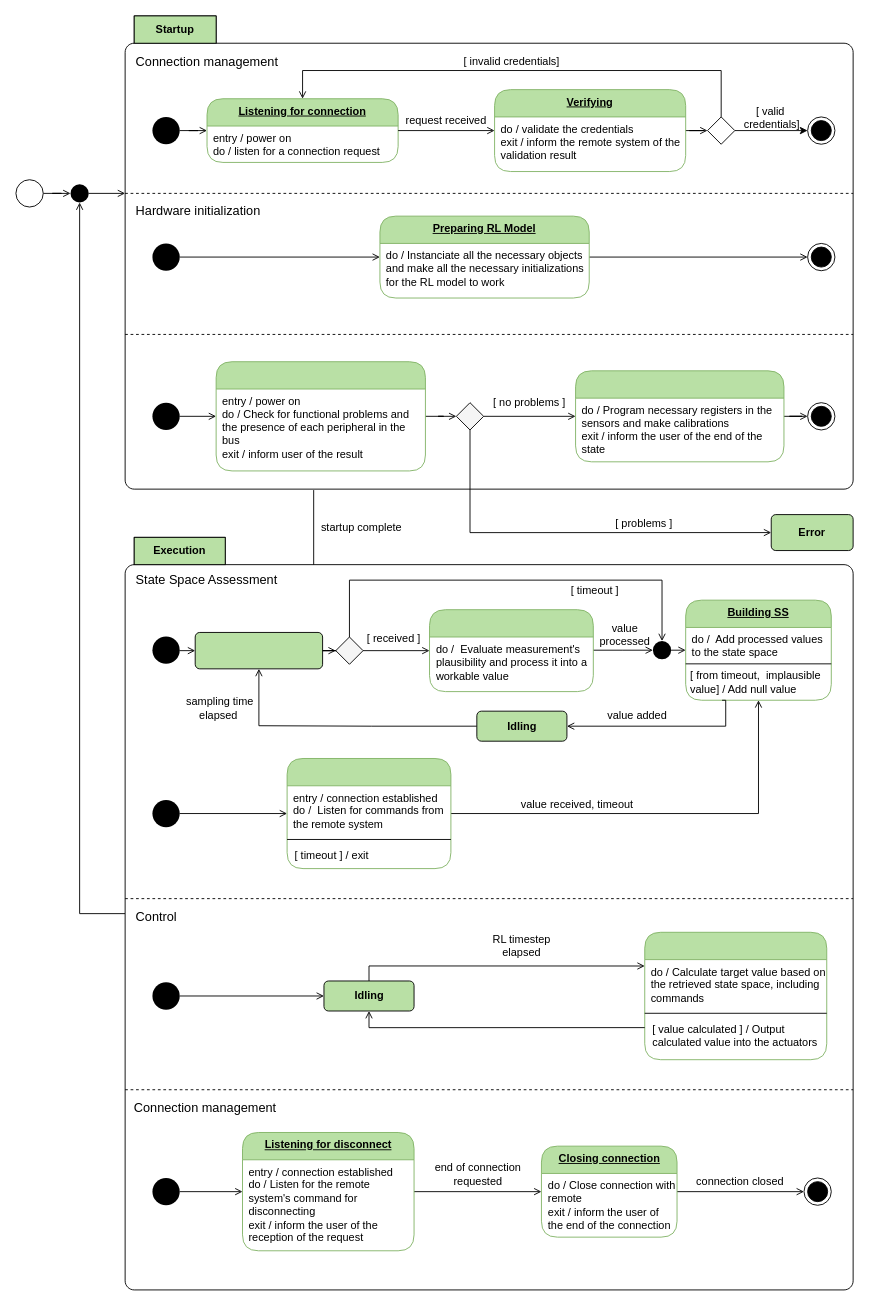
The diagram is 870 pixels wide and 1306 high, and some of its shapes have lost their labels. Each missing label, with the box of its shape:
Infering: (644, 931, 827, 1060)
Initializing parameters: (575, 370, 784, 462)
Listening for commands: (286, 758, 451, 869)
Processing value: (429, 609, 593, 692)
Requesting sample: (194, 632, 323, 669)
Verifying harware peripherals integrity: (215, 361, 425, 471)
